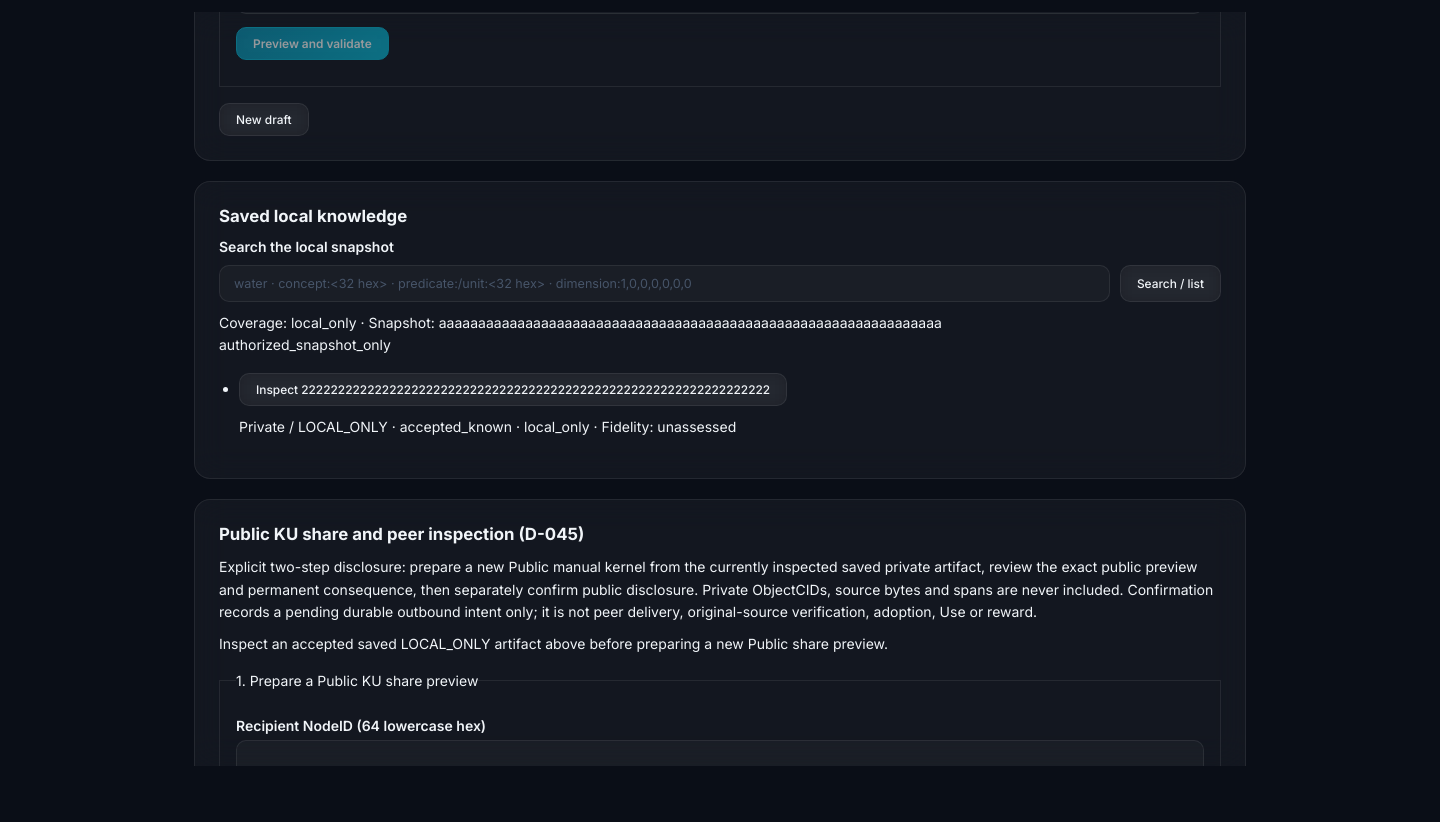
Test: local KU component journey › shows and reads saved local work when the editor dependency is unavailable
(page scrolled)
Click the button that starts with "Inspect" at (513, 389), box [239,373,787,406]
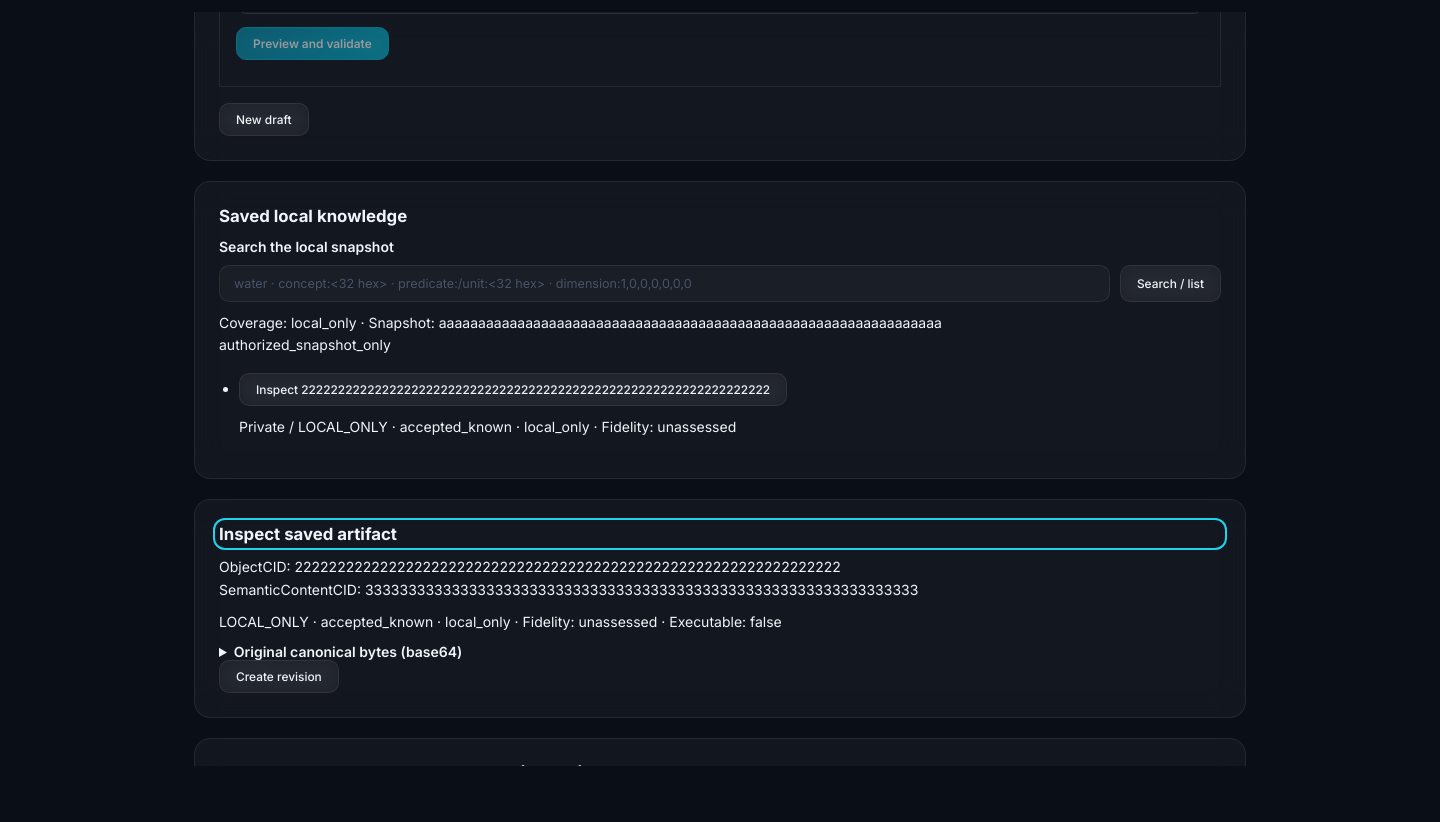
Now the heading "Inspect saved artifact" is shown, box [219,524,397,544]
